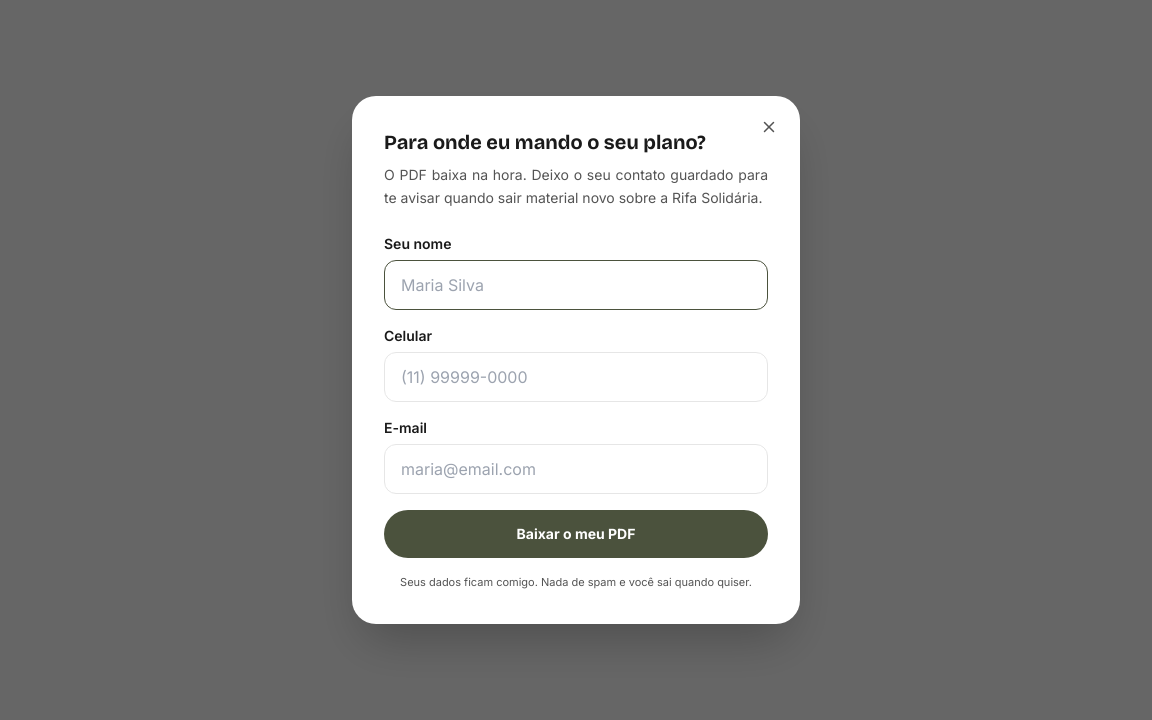
Test: ModalLead › mascara o celular enquanto digita
In the field labelled "Celular": (576, 377) [384,352,768,402], type "67998860067"
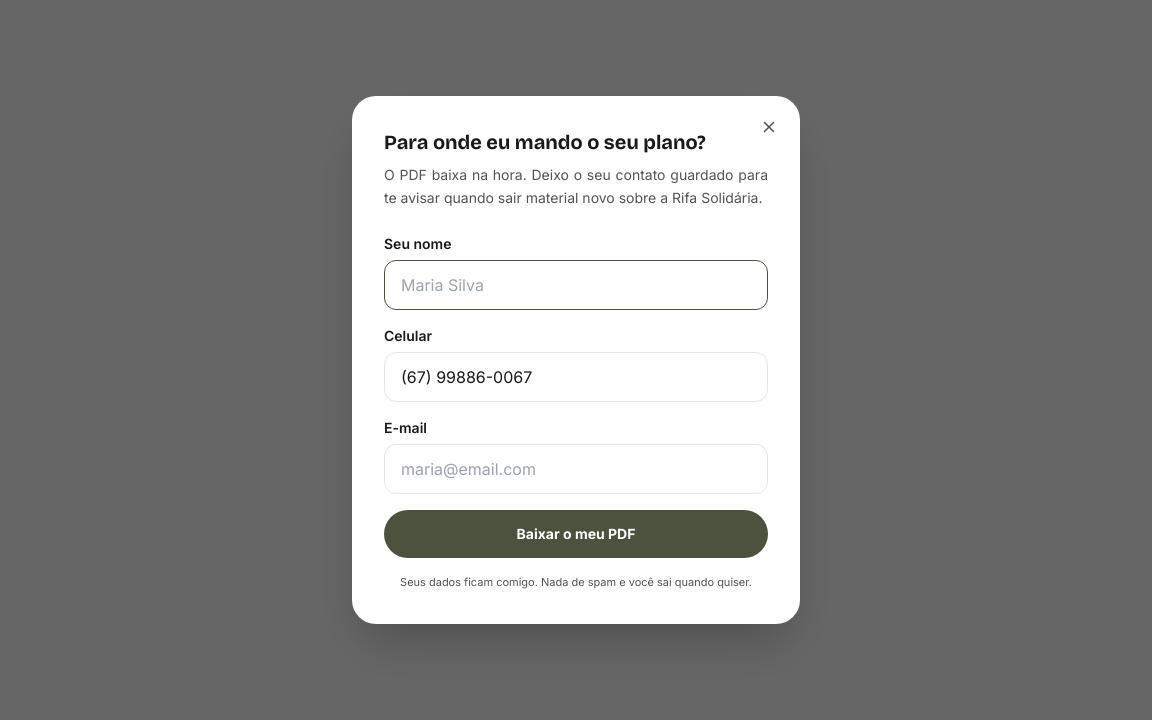
Check: the field labelled "Celular" holds "(67) 99886-0067", box [384,352,768,402]
